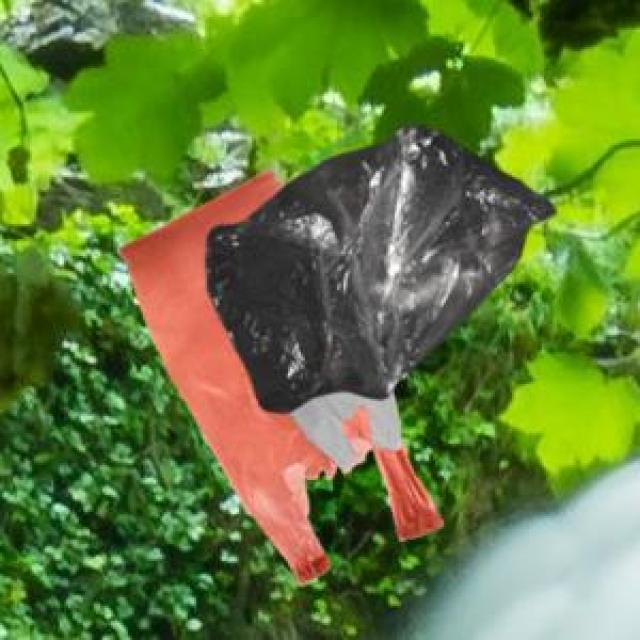Trashbag: (202, 128, 557, 418)
